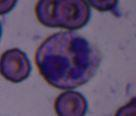N: (38, 32, 101, 89)
